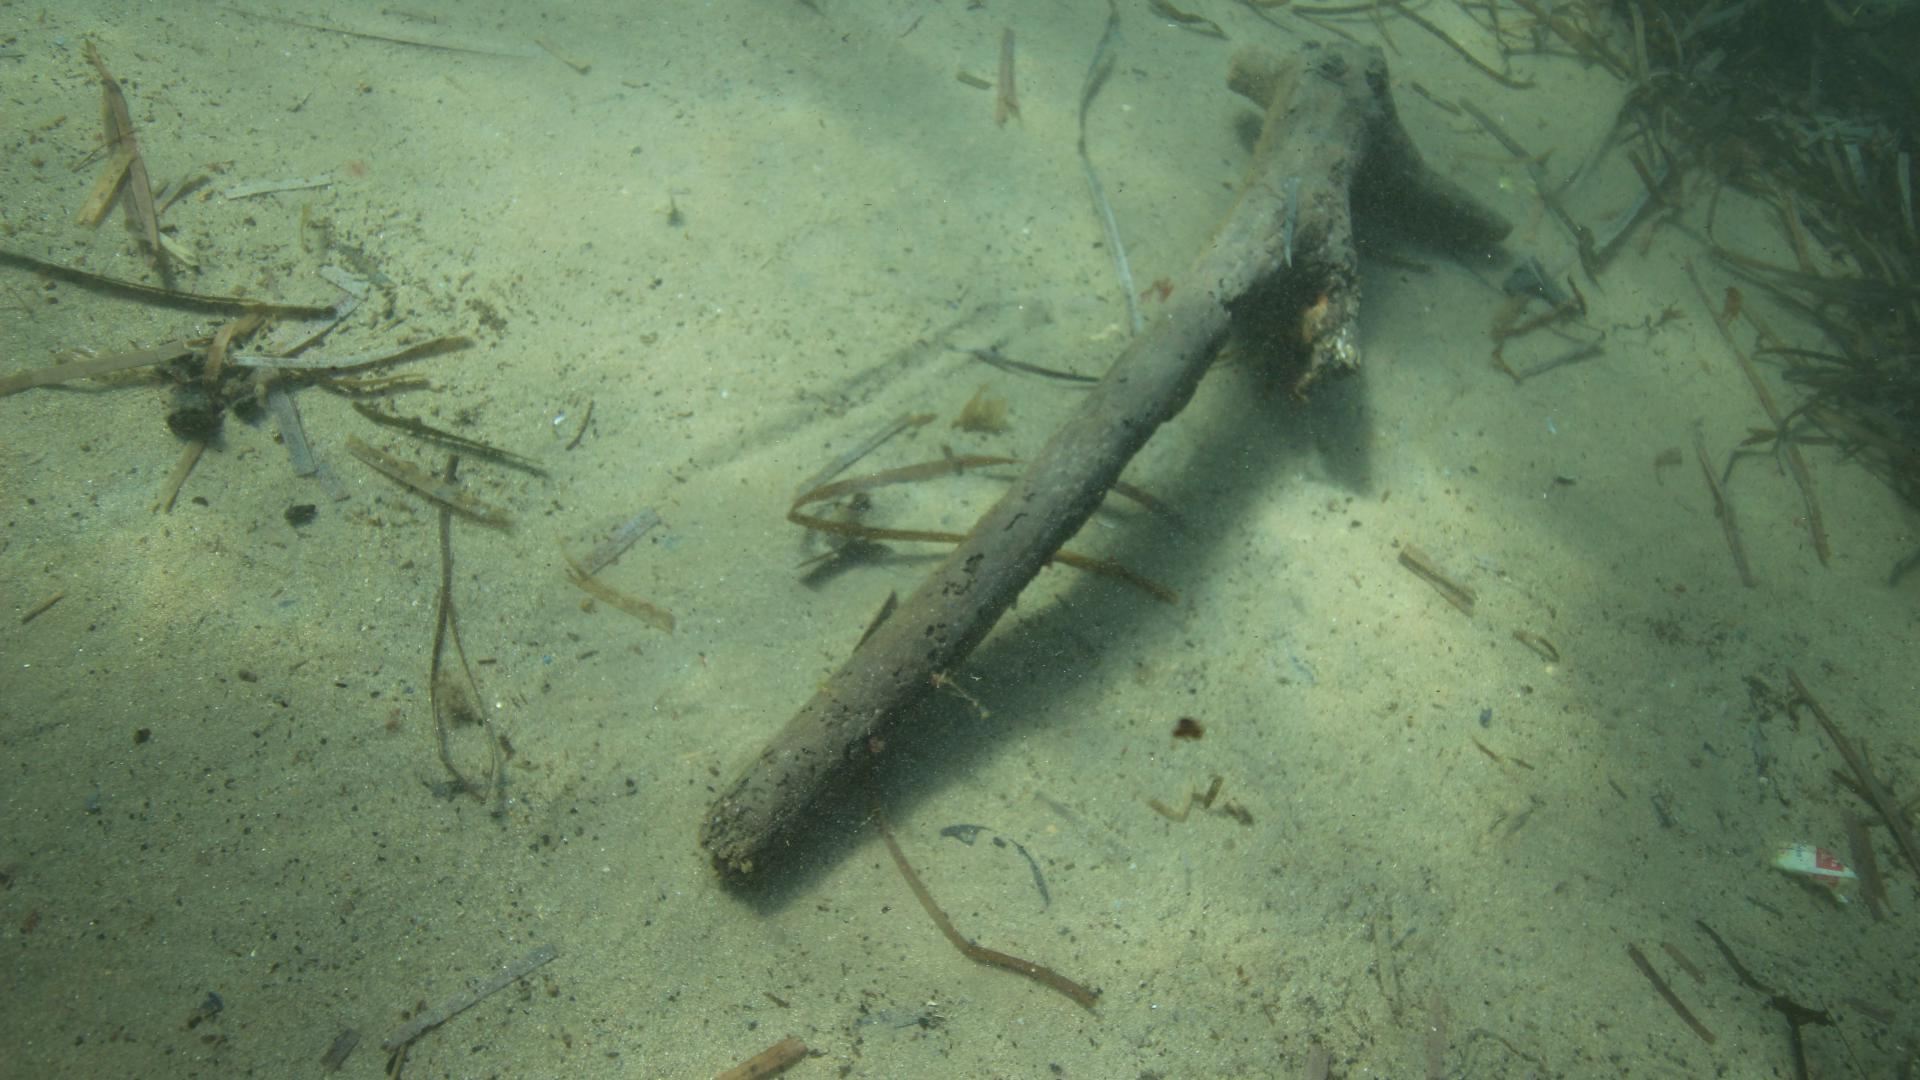wood: (694, 40, 1513, 880)
